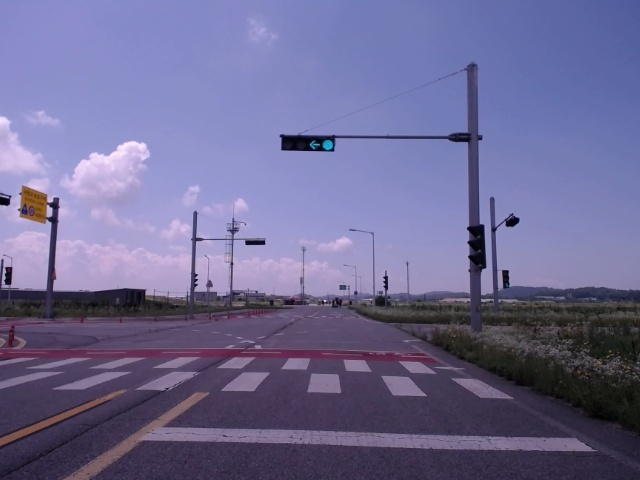all_green_4: (285, 135, 336, 150)
